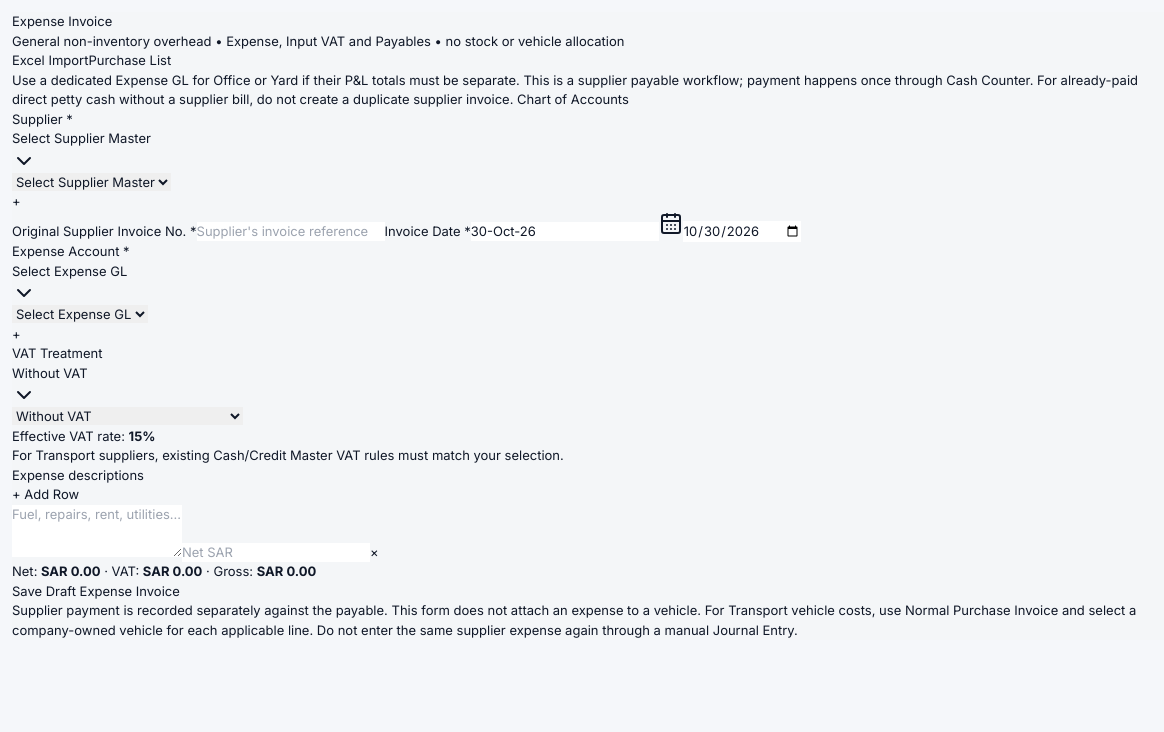
Test: General Expense Bill non-inventory workflow › creates only a draft with no VAT and leaves posting for invoice detail
Select "Test Supplier" in the dropdown named "Expense invoice supplier": (92, 182) [12,172,171,190]
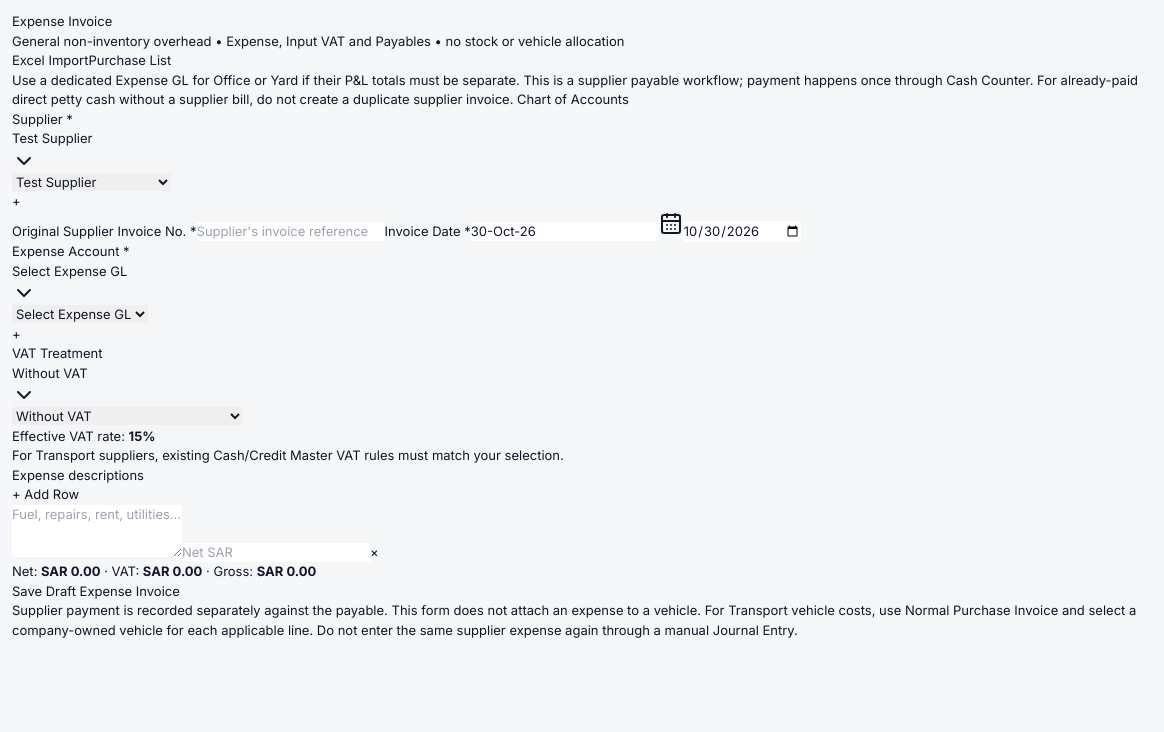
In the field named "Expense supplier invoice number": (290, 231) [196,222,384,241], type "SUP-001"
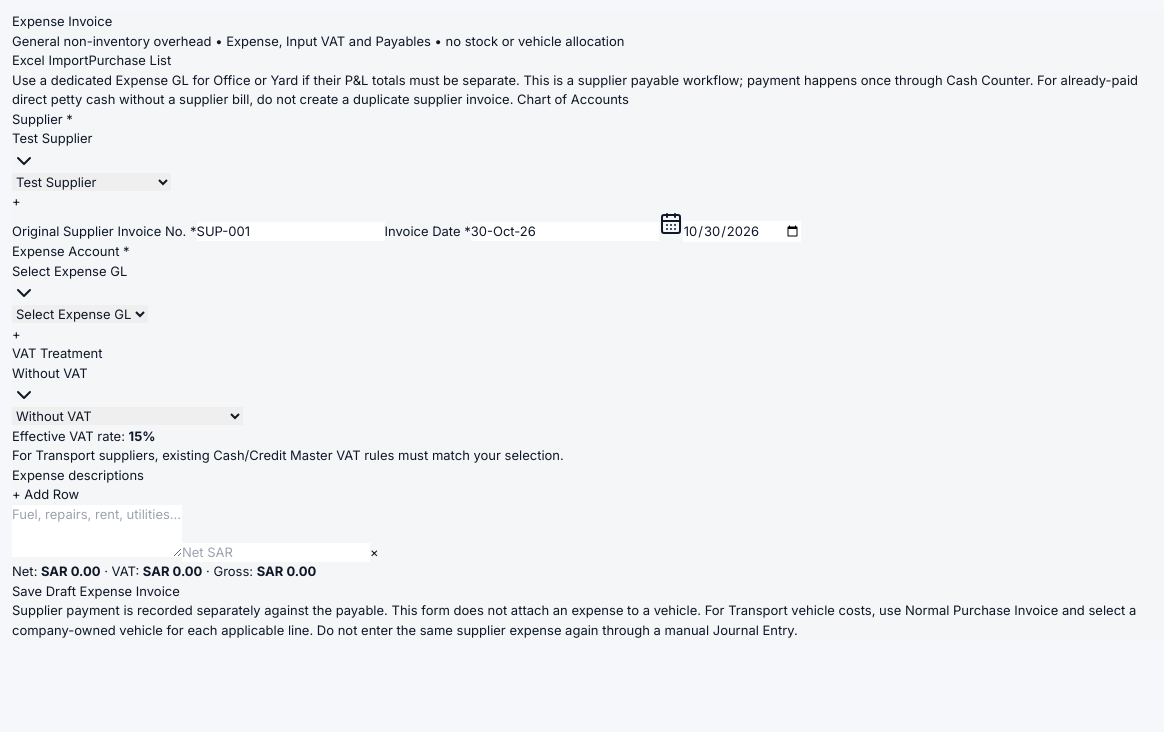
Select "Repairs Expense" in the dropdown named "Expense invoice account": (80, 314) [12,305,148,323]
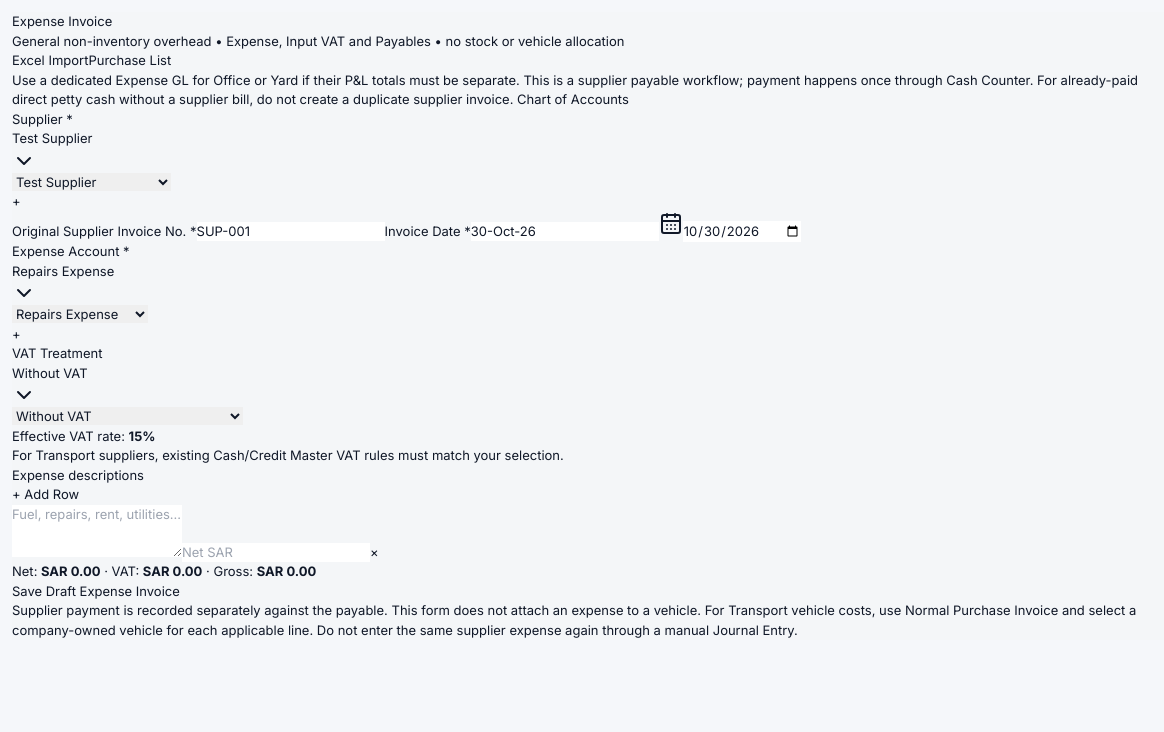
In the text box named "Expense description 1": (97, 530) [12,504,182,556], type "Vehicle repairs"
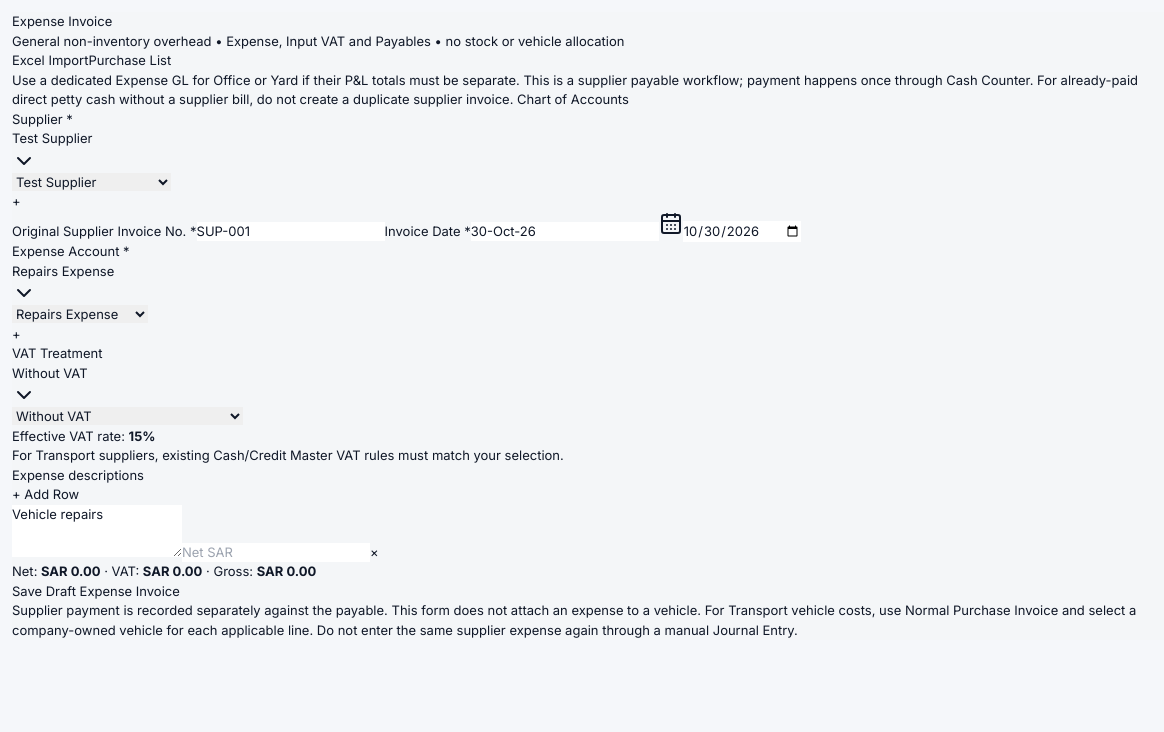
In the field named "Expense amount 1": (276, 552) [182,542,370,562], type "100"
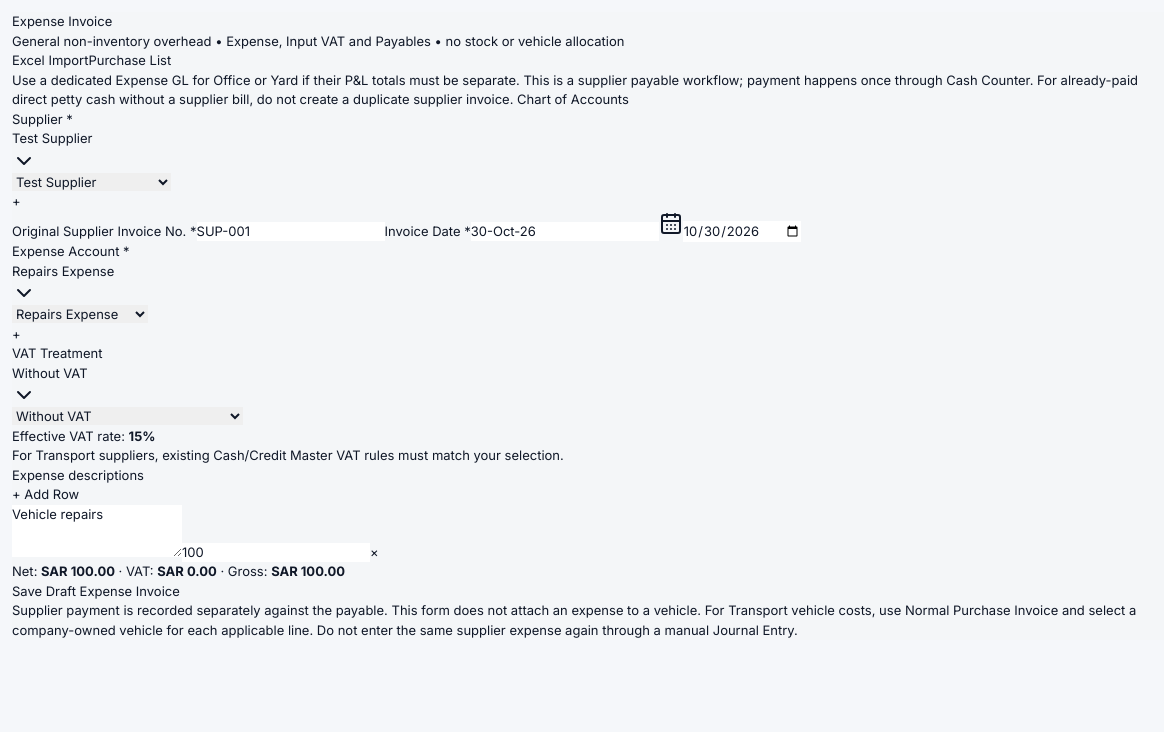
Click the button "Save Draft Expense Invoice": (96, 591) [12,582,180,601]
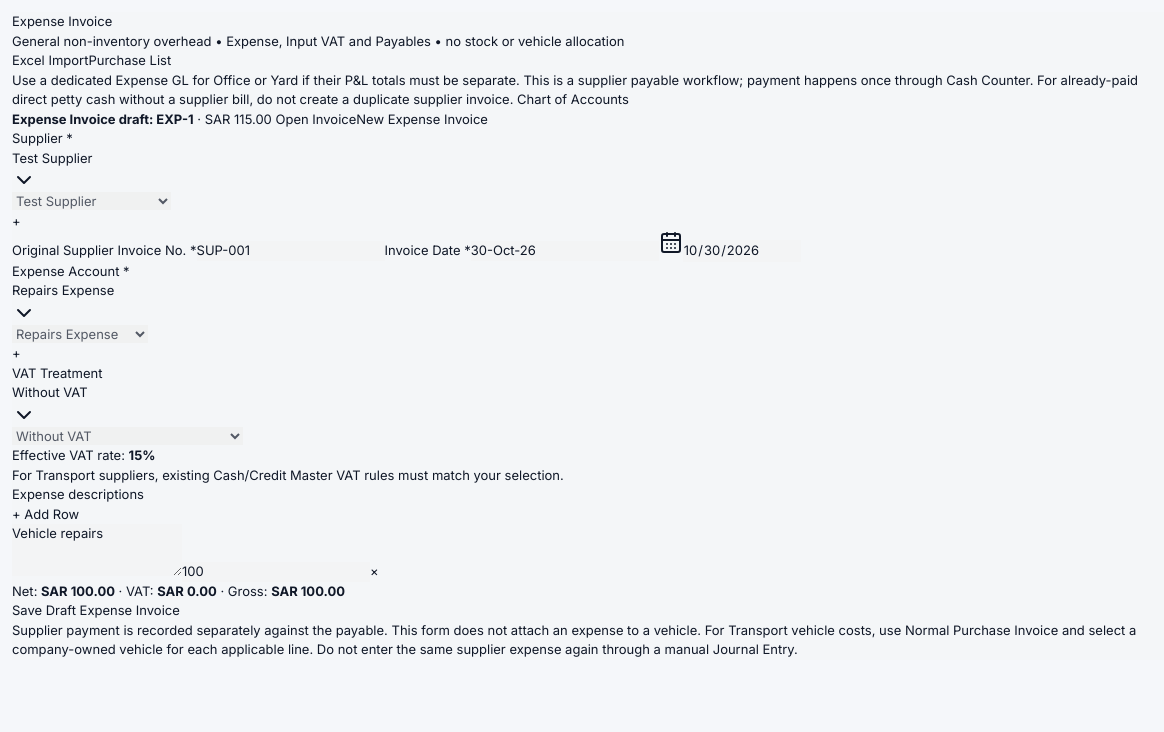
Expected: the text "Expense Invoice draft: EXP-1" is shown, [12,110,194,126]
